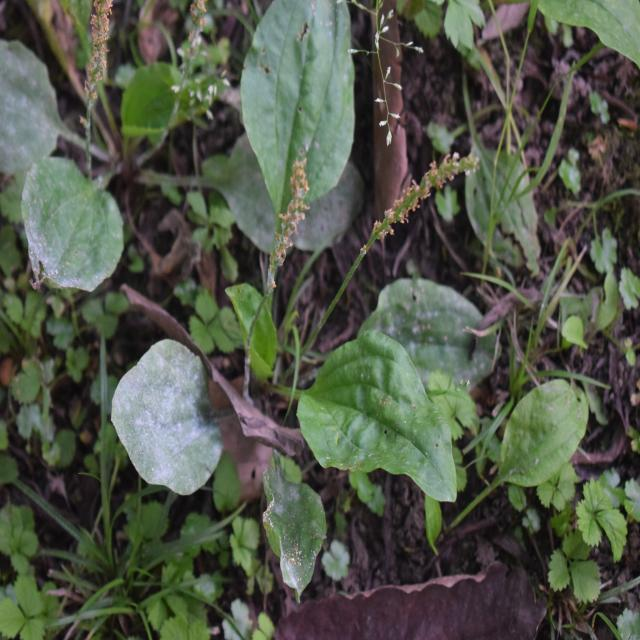plantain: (159, 43, 496, 524)
